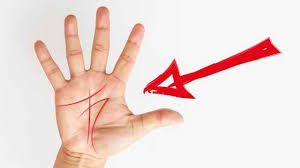palm: (52, 74, 131, 155)
